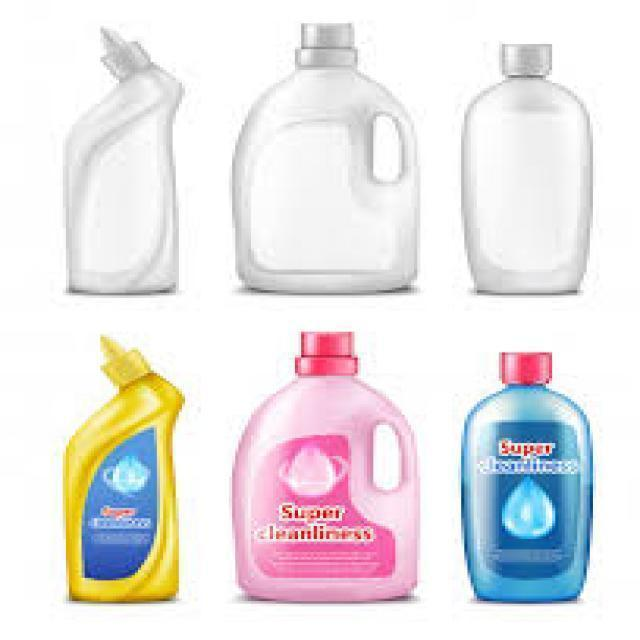Plastic: (227, 328, 420, 610), (233, 22, 418, 292), (49, 333, 187, 606), (452, 44, 596, 298), (450, 343, 588, 604), (59, 29, 187, 298)
